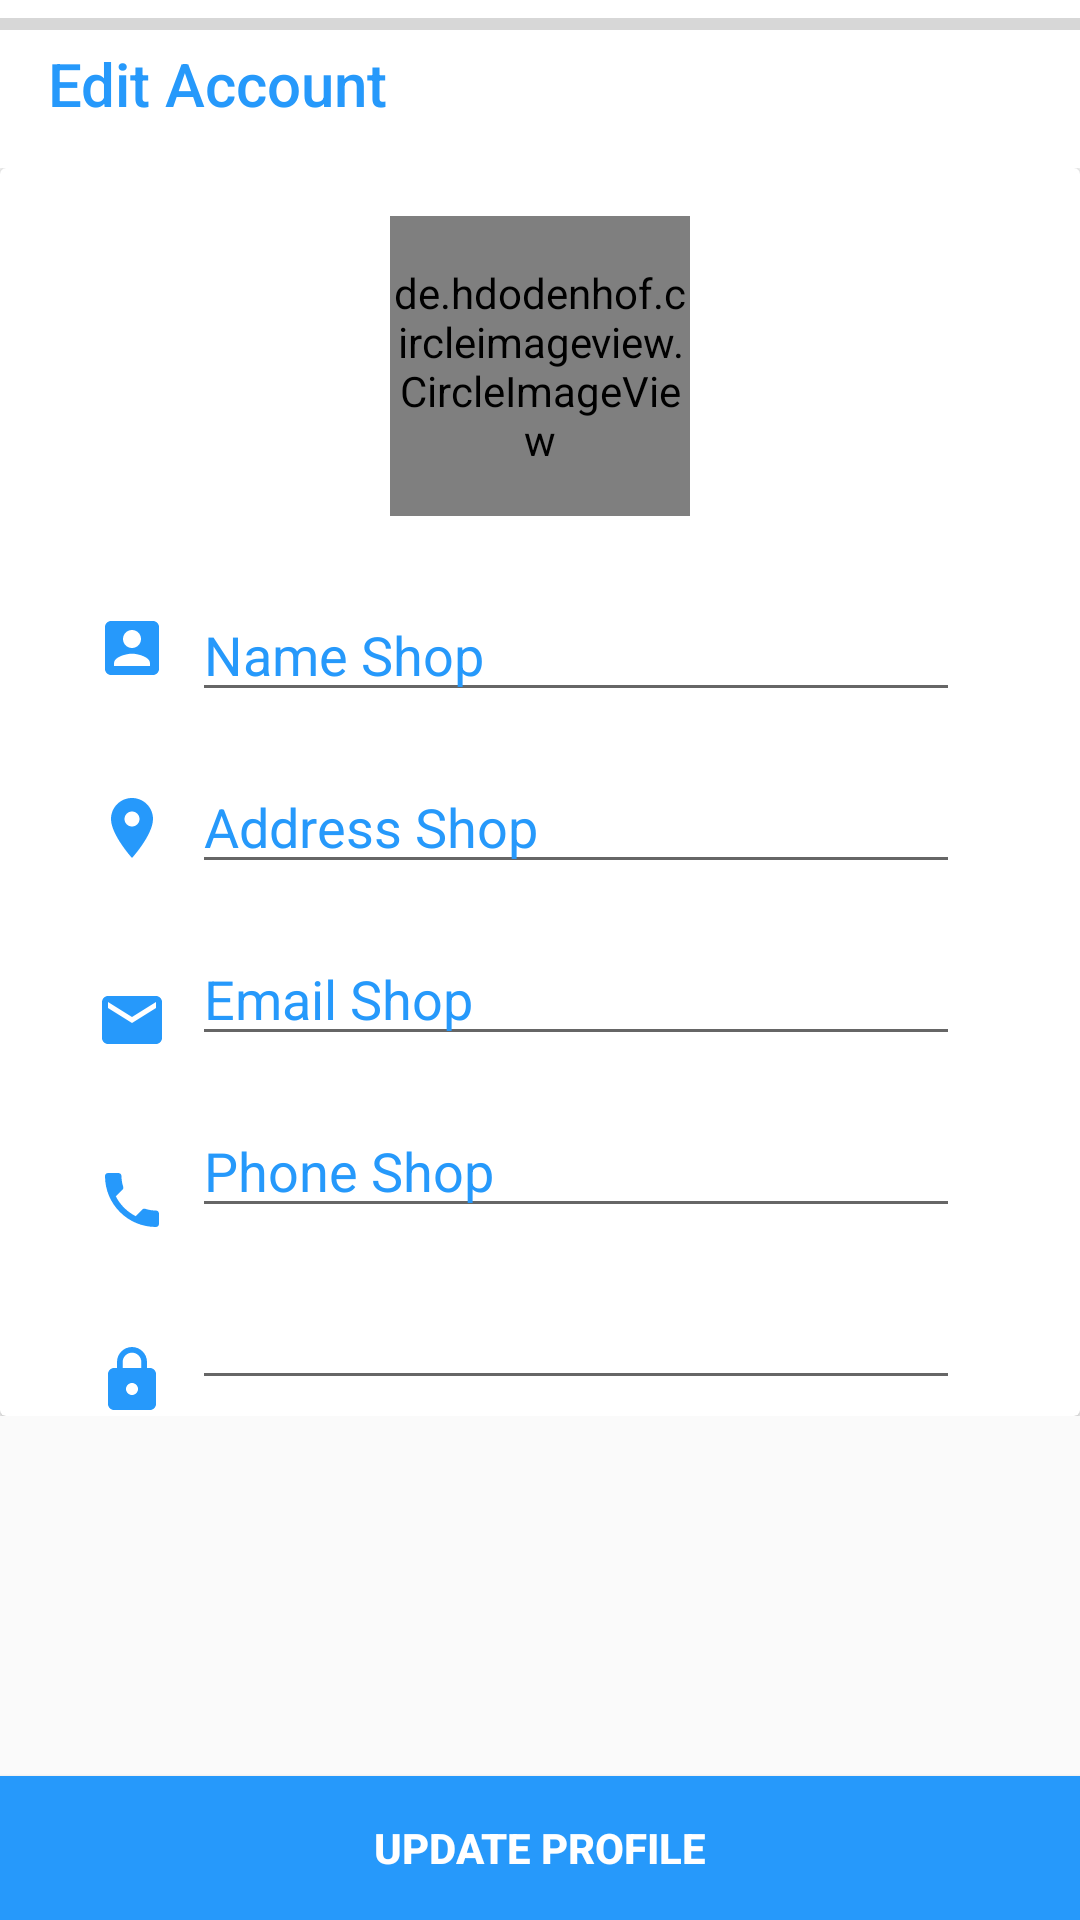

Where icons sit on this 1080w x 1920h app screen, as (x1, y1, x2, y2):
account: (105, 621, 159, 675)
location: (111, 798, 153, 858)
password: (108, 1347, 156, 1410)
